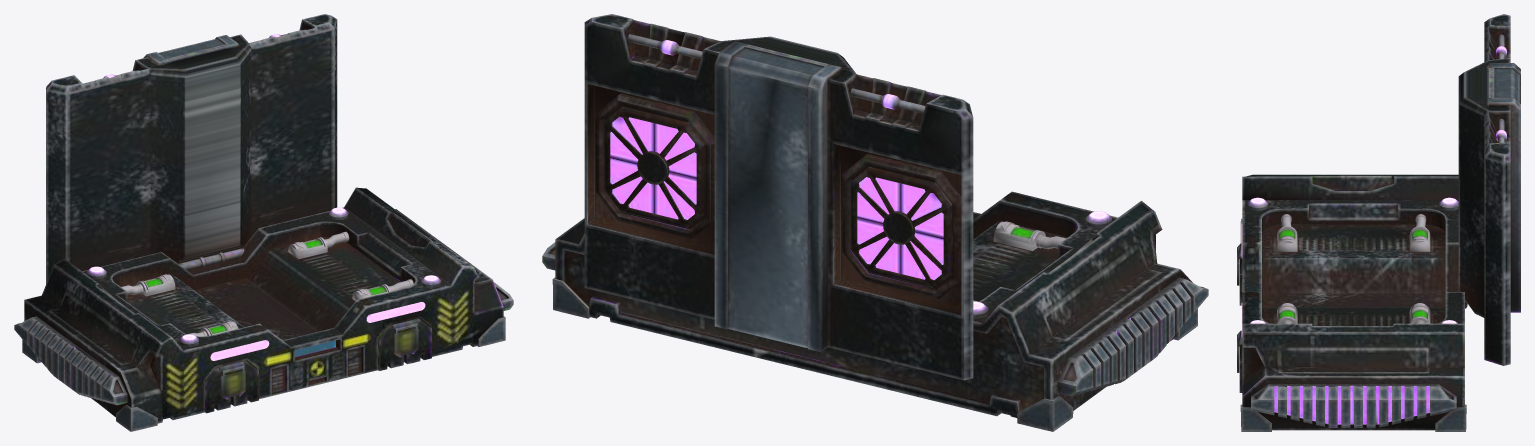
File: item.container.vdi_cache.glb
The picture shows the model from 3 angles, left to right: view 1: azimuth 30°, elevation 25°; view 2: azimuth 150°, elevation 25°; view 3: azimuth 270°, elevation 25°; orthographic projection. The views are drawn at different scales.
Visible parts, largest first — view 1: SciFiCrate_Bottom; view 2: SciFiCrate_Bottom; view 3: SciFiCrate_Bottom.
Boxes of the visible parts, x1,y1,x2,y2 form: SciFiCrate_Bottom: [14, 14, 513, 431]; SciFiCrate_Bottom: [542, 14, 1208, 431]; SciFiCrate_Bottom: [1237, 14, 1520, 431].
Size of the model in its own units: 1.2 by 0.7041 by 0.712.
Materials: 1 (1 with a texture image).
